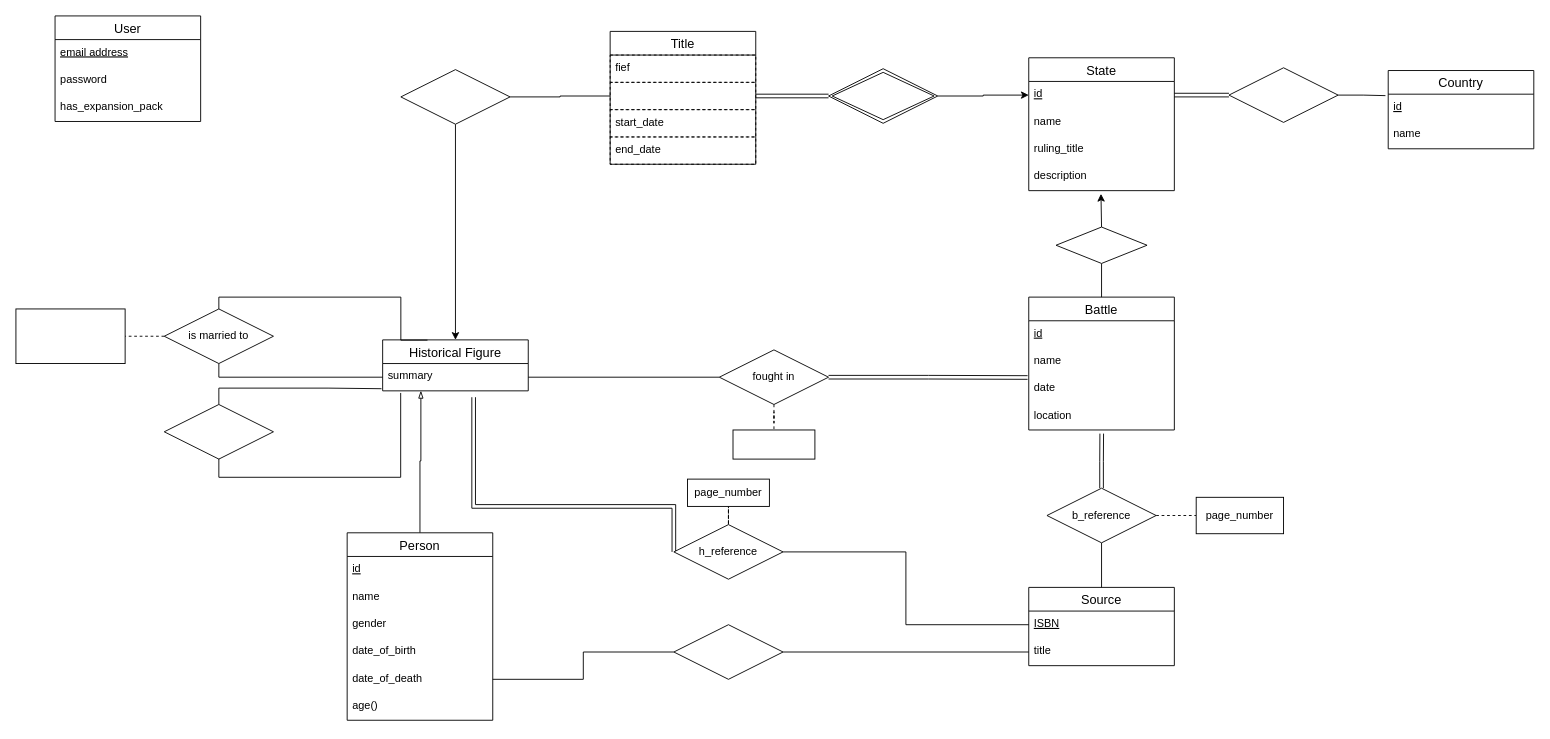
This 1550x739 diagram has some shape labels left out. The shapes that lost their labels are listed below. From the top down, each one's centre as x and y in pixels, then its label:
[455,96]: has
[682,95]: rank
[883,95]: of
[1283,94]: occupied
[1101,244]: location_of
[70,336]: wedding_date divorce_date
[218,431]: parent of
[773,444]: is_victorious
[728,651]: wrote
